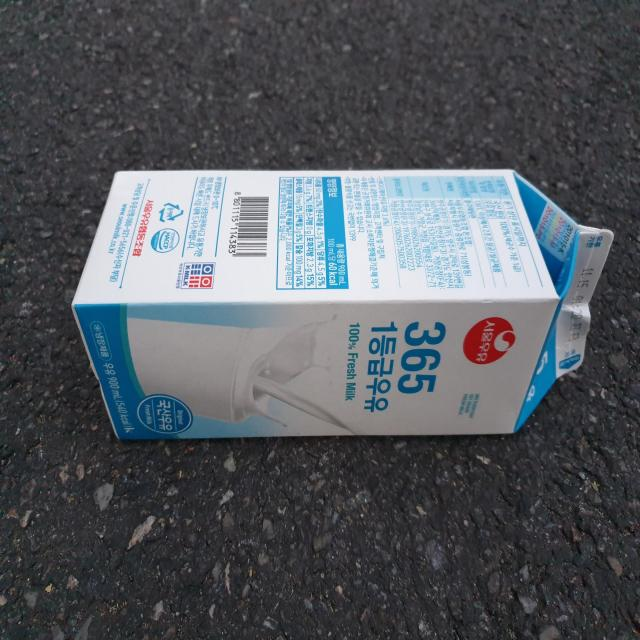paperpack: (72, 169, 614, 440)
